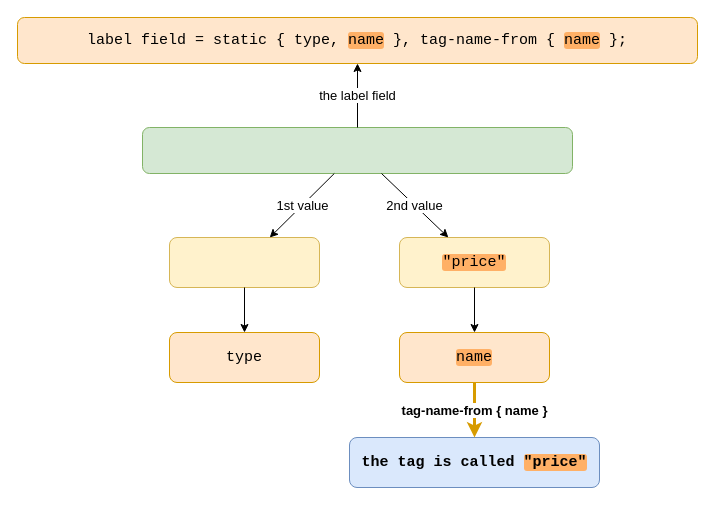
This 715x505 diagram has some shape labels left out. The shapes that lost their labels are listed below. From the top down, each one's centre as x and y in pixels, then its label:
(357,150): field important { "int", "price" };
(244,262): "int"
